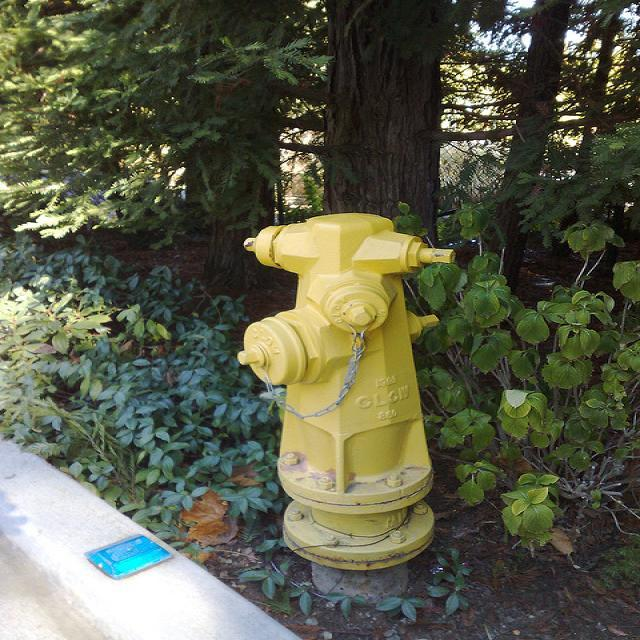fire_hydrant: (237, 212, 456, 615)
